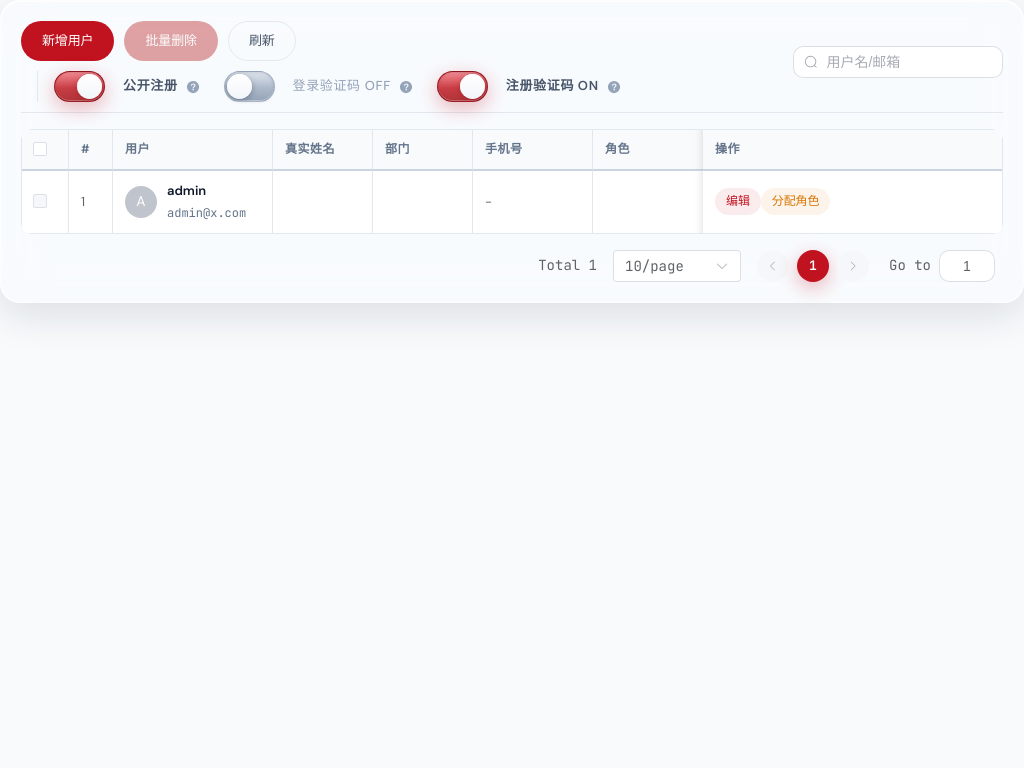
Scenario: UserView 自伤防护（不得对自己重置 MFA / 删除） › 只给自己一行且权限齐全时，仍不出现重置MFA/删除（不是「他人行恰好没有」）
What coordinates should you click on to do the following:
click the button with class "glass-btn--link" showing "编辑"
I would click on:
 (738, 202)
Its box is 715,188 -> 761,215.
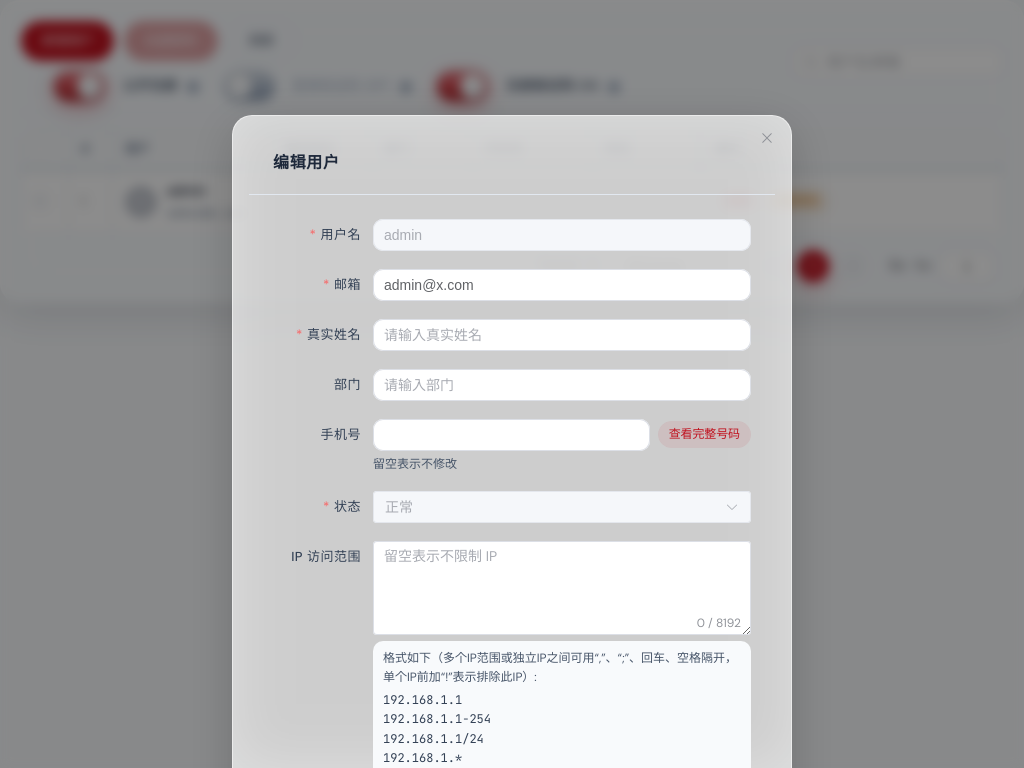
expect the heading "编辑用户" is shown: met, box 273,152 -> 340,173
